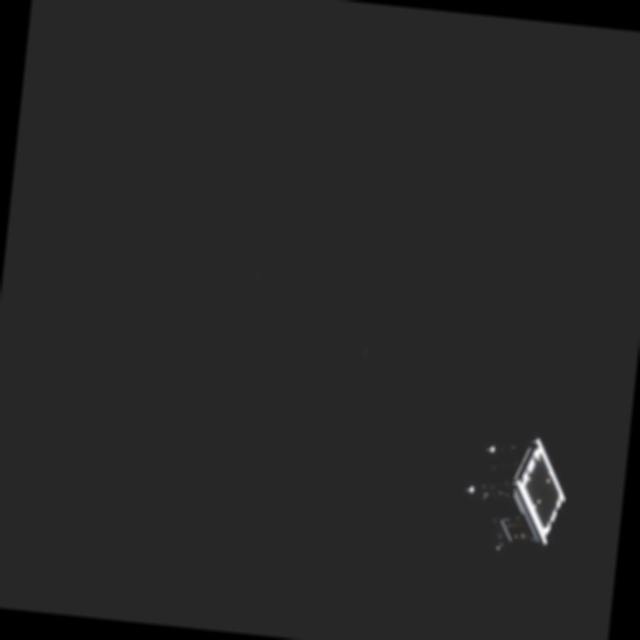satellite: (450, 426, 579, 561)
